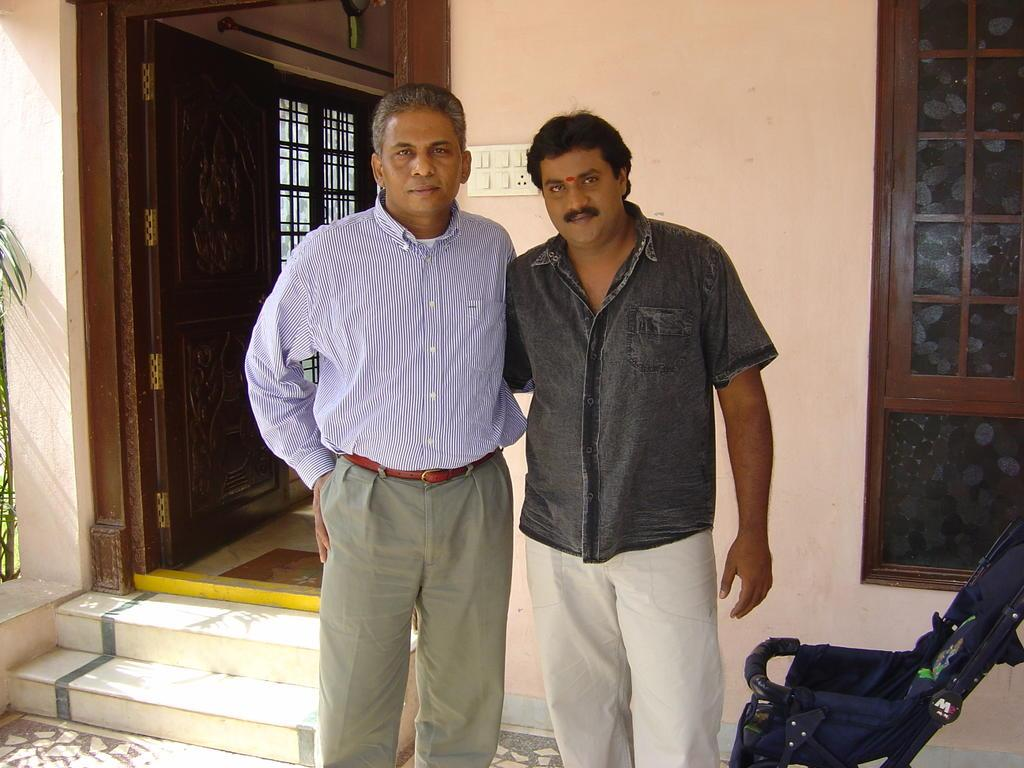face: (370, 114, 460, 210), (542, 148, 608, 246)
